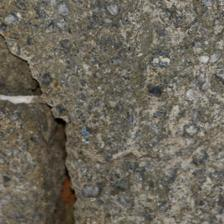Crack: (0, 0, 79, 96), (1, 5, 133, 59)
